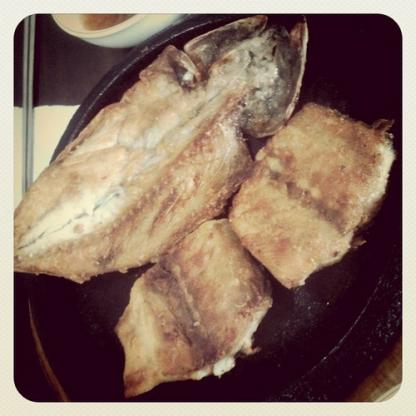Peixe: (9, 8, 392, 389)
